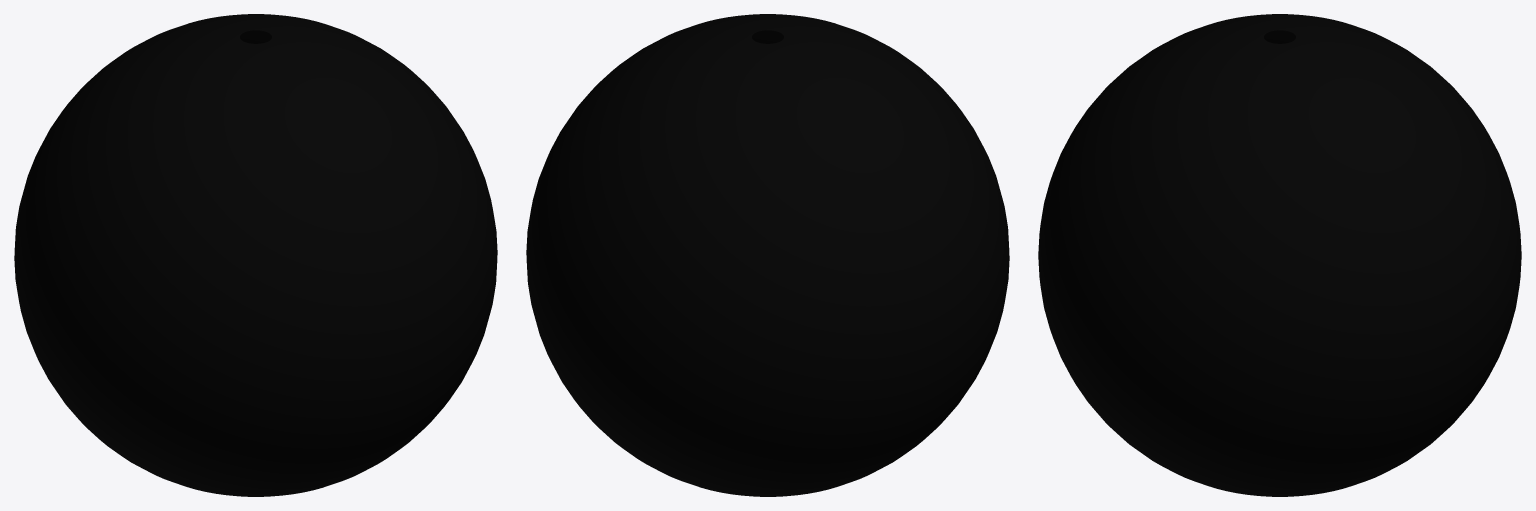
File: blackhole_eventHorizon.dae
3 renders of one model, left to right at view 1: azimuth 30°, elevation 25°; view 2: azimuth 150°, elevation 25°; view 3: azimuth 270°, elevation 25°, orthographic.
Parts seen in each view (by area): view 1: Component_1; view 2: Component_1; view 3: Component_1.
Part boxes in pixels (x1,y1,x2,y2): Component_1: [14, 14, 497, 496]; Component_1: [526, 14, 1009, 496]; Component_1: [1038, 14, 1521, 496].
Size of the model in its own units: 2.36 by 2.36 by 2.35.
